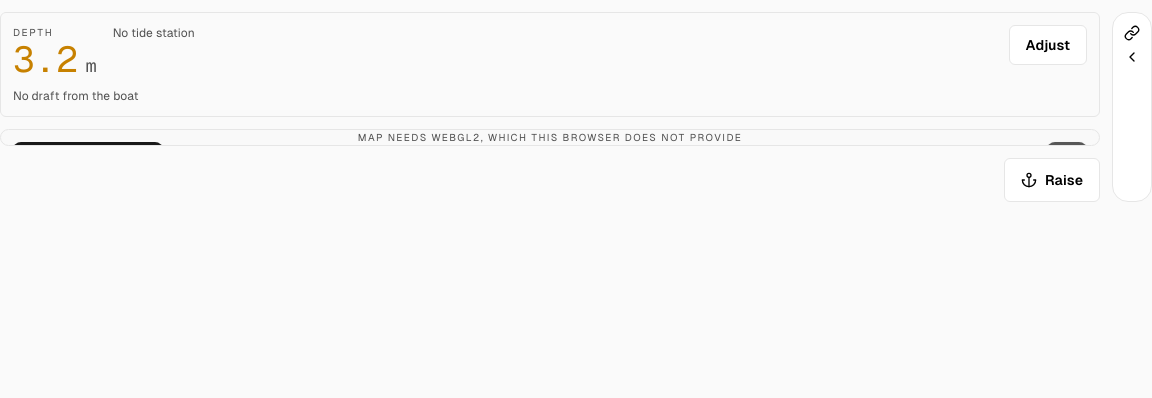
Test: AnchorWatchDrawer Adjust mode — radius toolbar and disabled reasons › disables + at the maximum radius (chain onboard + LOA), with a reason surfaced as visible text
Click the button "Adjust": (1048, 45) [1009,25,1087,65]
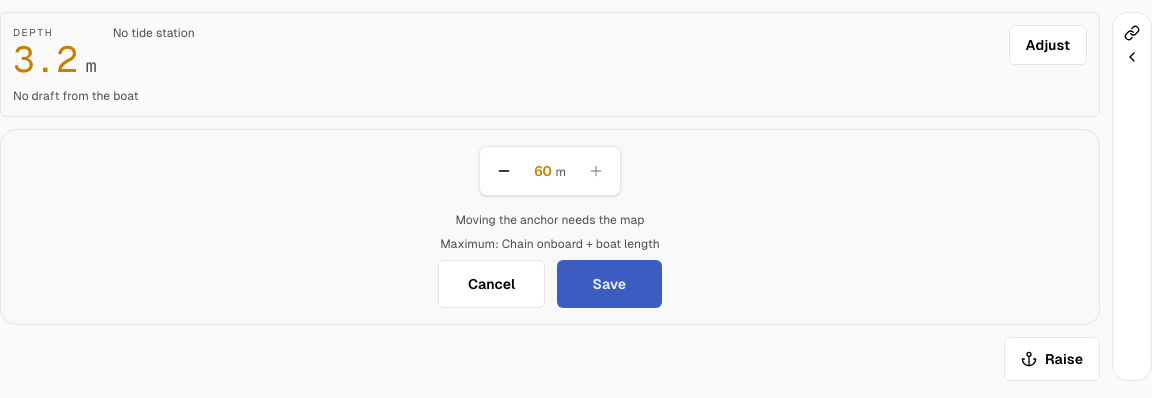
Expected: the button named "Increase radius" is disabled, [576,151,616,191]
Expected: the text with test id "anchor-adjust-reasons" reads "Maximum: Chain onboard + boat length", [440,237,660,251]
